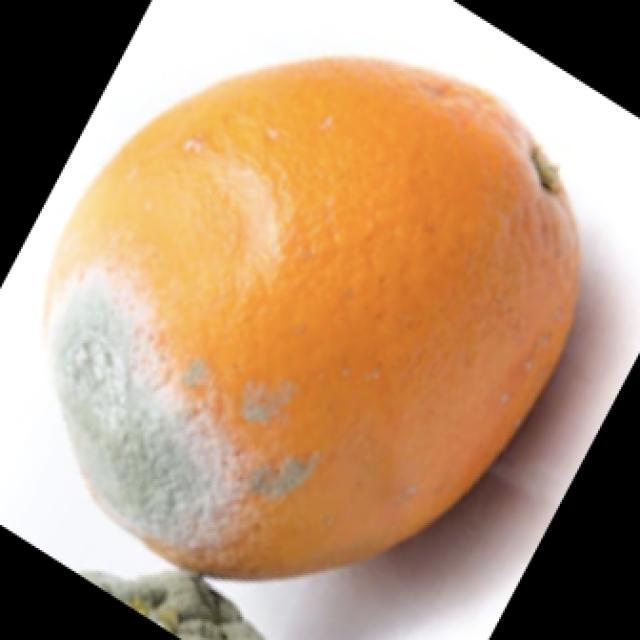sangat_busuk: (66, 562, 260, 640)
sedikit_busuk: (34, 54, 580, 582)
